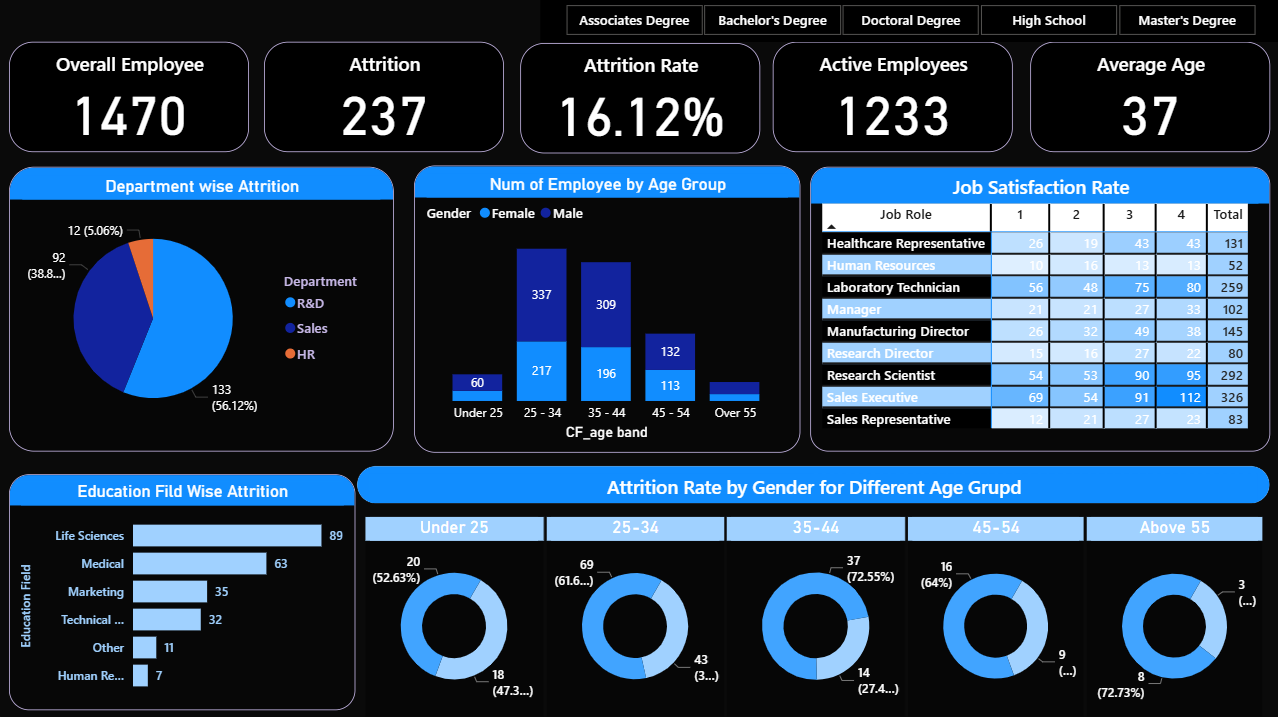

This screenshot's page, from the dashboard's own definition file:
{"tool":"powerbi","page":{"name":"Page 1","canvas":[1280,720],"ordinal":0},"visuals":[{"type":"card","title":"Overall Employee","fields":{"Values":["Sum(HR data.Employee Count)"]},"box":[10,43.8,240,110],"z":0},{"type":"card","title":"Attrition ","fields":{"Values":["Sum(HR data.Attrition Count)"]},"box":[265.4,43.8,240,110],"z":1000},{"type":"card","title":"Attrition Rate","fields":{"Values":["HR data.Attrition Rate"]},"box":[520.8,44.6,240,110],"z":2000},{"type":"card","title":"Active Employees","fields":{"Values":["HR data.Active Employeese"]},"box":[774.3,44.3,240,110],"z":3000},{"type":"card","title":"Average Age","fields":{"Values":["Avg(HR data.Age)"]},"box":[1031.2,43.8,240,110],"z":4000},{"type":"pieChart","title":"Department wise Attrition","fields":{"Category":["HR data.Department"],"Y":["Sum(HR data.Attrition Count)"]},"box":[10,168.3,385,285],"z":5000},{"type":"columnChart","title":"Num of Employee by Age Group","fields":{"Category":["HR data.CF_age band"],"Y":["Sum(HR data.Employee Count)"],"Series":["HR data.Gender"]},"box":[415.1,167.4,386,287.2],"z":6000},{"type":"pivotTable","title":"Job Satisfaction Rate","fields":{"Rows":["HR data.Job Role"],"Columns":["HR data.Job Satisfaction"],"Values":["Sum(HR data.Employee Count)"]},"box":[811.2,168.8,460,285],"z":7000},{"type":"barChart","title":"Education Fild Wise Attrition ","fields":{"Category":["HR data.Education Field"],"Y":["Sum(HR data.Attrition Count)"]},"box":[10,476,346,236],"z":8000},{"type":"donutChart","title":"Under 25","fields":{"Category":["HR data.Gender"],"Y":["Sum(HR data.Attrition Count)"],"Series":["HR data.CF_age band"]},"box":[366.4,518.6,178,200],"z":9000},{"type":"textbox","title":"Attrition Rate by Gender for Different Age Grupd","box":[357.5,467.5,913.8,38.8],"z":10000},{"type":"donutChart","title":"25-34","fields":{"Category":["HR data.Gender"],"Y":["Sum(HR data.Attrition Count)"],"Series":["HR data.CF_age band"]},"box":[547.5,518.8,177.5,200],"z":11000},{"type":"donutChart","title":"35-44","fields":{"Category":["HR data.Gender"],"Y":["Sum(HR data.Attrition Count)"],"Series":["HR data.CF_age band"]},"box":[727.5,518.8,178.8,200],"z":12000},{"type":"donutChart","title":"45-54","fields":{"Category":["HR data.Gender"],"Y":["Sum(HR data.Attrition Count)"],"Series":["HR data.CF_age band"]},"box":[908.8,518.8,176.2,200],"z":13000},{"type":"donutChart","title":"Above 55","fields":{"Category":["HR data.Gender"],"Y":["Sum(HR data.Attrition Count)"],"Series":["HR data.CF_age band"]},"box":[1087.5,518.8,176.2,200],"z":14000},{"type":"slicer","fields":{"Values":["HR data.Education"]},"box":[541,0,739,44],"z":15000}]}

Visuals, with their boxes in screenshot pixels (x1, y1, x2, y2), scaled from the page's 1280x720 canvas onto the 1278x717 screenshot:
"Overall Employee" card: bbox(10, 44, 250, 153)
"Attrition " card: bbox(265, 44, 505, 153)
"Attrition Rate" card: bbox(520, 44, 760, 154)
"Active Employees" card: bbox(773, 44, 1013, 154)
"Average Age" card: bbox(1030, 44, 1269, 153)
"Department wise Attrition" pieChart: bbox(10, 168, 394, 451)
"Num of Employee by Age Group" columnChart: bbox(414, 167, 800, 453)
"Job Satisfaction Rate" pivotTable: bbox(810, 168, 1269, 452)
"Education Fild Wise Attrition " barChart: bbox(10, 474, 355, 709)
"Under 25" donutChart: bbox(366, 516, 544, 716)
"Attrition Rate by Gender for Different Age Grupd" textbox: bbox(357, 466, 1269, 504)
"25-34" donutChart: bbox(547, 517, 724, 716)
"35-44" donutChart: bbox(726, 517, 905, 716)
"45-54" donutChart: bbox(907, 517, 1083, 716)
"Above 55" donutChart: bbox(1086, 517, 1262, 716)
slicer - HR data.Education: bbox(540, 0, 1277, 44)
